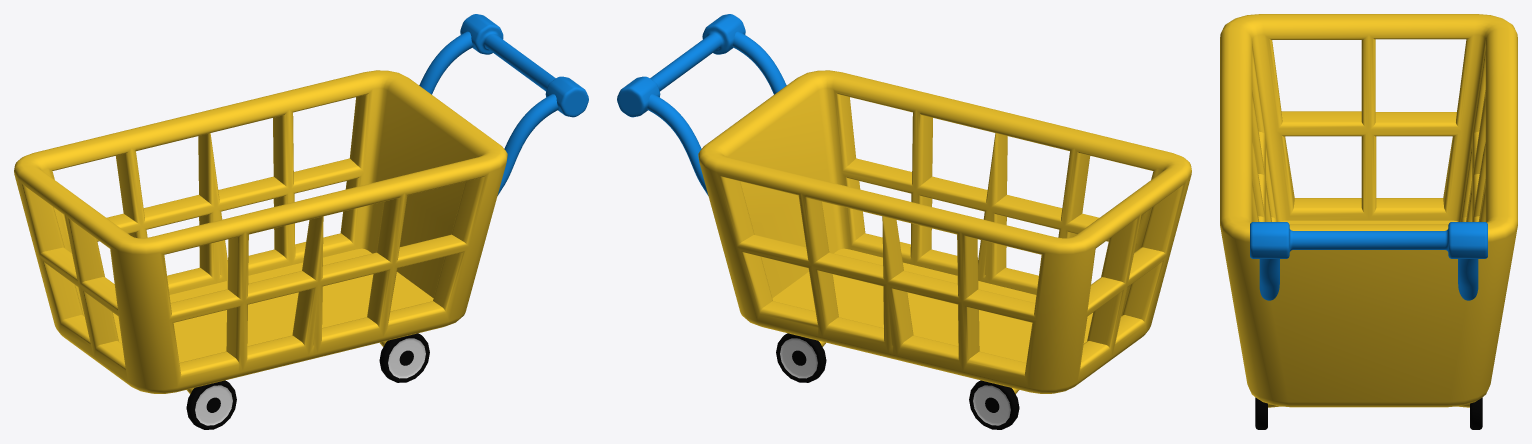
File: ShoppingCart-long.fbx
3 views of the same model, side by side, from view 1: azimuth 30°, elevation 25°; view 2: azimuth 150°, elevation 25°; view 3: azimuth 270°, elevation 25° (orthographic). The views are drawn at different scales.
Visible parts, largest first — view 1: Cube, Tutacak, Tekerlekler; view 2: Cube, Tutacak, Tekerlekler; view 3: Cube, Tutacak, Tekerlekler.
Part boxes in pixels (x1,y1,x2,y2): Cube: (14, 70, 507, 393); Tutacak: (419, 14, 588, 195); Tekerlekler: (186, 333, 429, 429); Cube: (698, 70, 1191, 393); Tutacak: (617, 14, 786, 195); Tekerlekler: (776, 333, 1019, 429); Cube: (1220, 14, 1517, 407); Tutacak: (1250, 222, 1487, 300); Tekerlekler: (1255, 397, 1482, 429).
Bounding box in the file's own units: 192 × 99.37 × 90.01.
